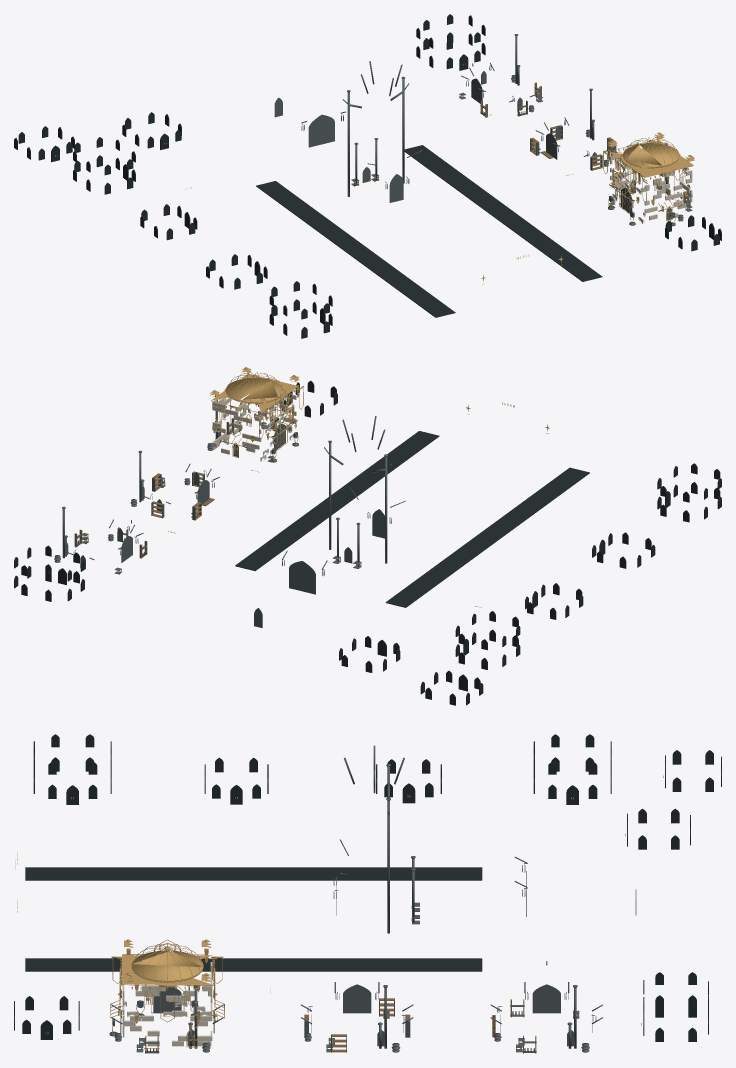
The model's file is Neris-21.glb.
The picture shows the model from 3 angles, top to bottom: view 1: azimuth 30°, elevation 25°; view 2: azimuth 150°, elevation 25°; view 3: azimuth 270°, elevation 25°; orthographic projection. The views are drawn at different scales.
Parts seen in each view (by area): view 1: Recess Shadow, Patinated Iron.001, Aged Gold.001, Limestone Block Tone 1.001, Walnut Light Grain.001; view 2: Recess Shadow, Patinated Iron.001, Aged Gold.001, Limestone Block Tone 1.001, Walnut Light Grain.001; view 3: Recess Shadow, Patinated Iron.001, Aged Gold.001, Limestone Block Tone 1.001, Walnut Light Grain.001.
Part boxes in pixels (bbox=[...]): Recess Shadow: bbox=[14, 14, 721, 338]; Patinated Iron.001: bbox=[274, 34, 692, 226]; Aged Gold.001: bbox=[603, 132, 694, 223]; Limestone Block Tone 1.001: bbox=[610, 141, 692, 224]; Walnut Light Grain.001: bbox=[354, 82, 690, 211]; Recess Shadow: bbox=[14, 381, 721, 705]; Patinated Iron.001: bbox=[54, 395, 405, 627]; Aged Gold.001: bbox=[210, 367, 303, 459]; Limestone Block Tone 1.001: bbox=[212, 394, 296, 461]; Walnut Light Grain.001: bbox=[74, 418, 361, 574]; Recess Shadow: bbox=[14, 734, 721, 1041]; Patinated Iron.001: bbox=[109, 745, 636, 1053]; Aged Gold.001: bbox=[110, 939, 224, 1048]; Limestone Block Tone 1.001: bbox=[122, 962, 212, 1046]; Walnut Light Grain.001: bbox=[137, 906, 578, 1053].
Size of the model in its own units: 77.07 by 20.73 by 82.13.
